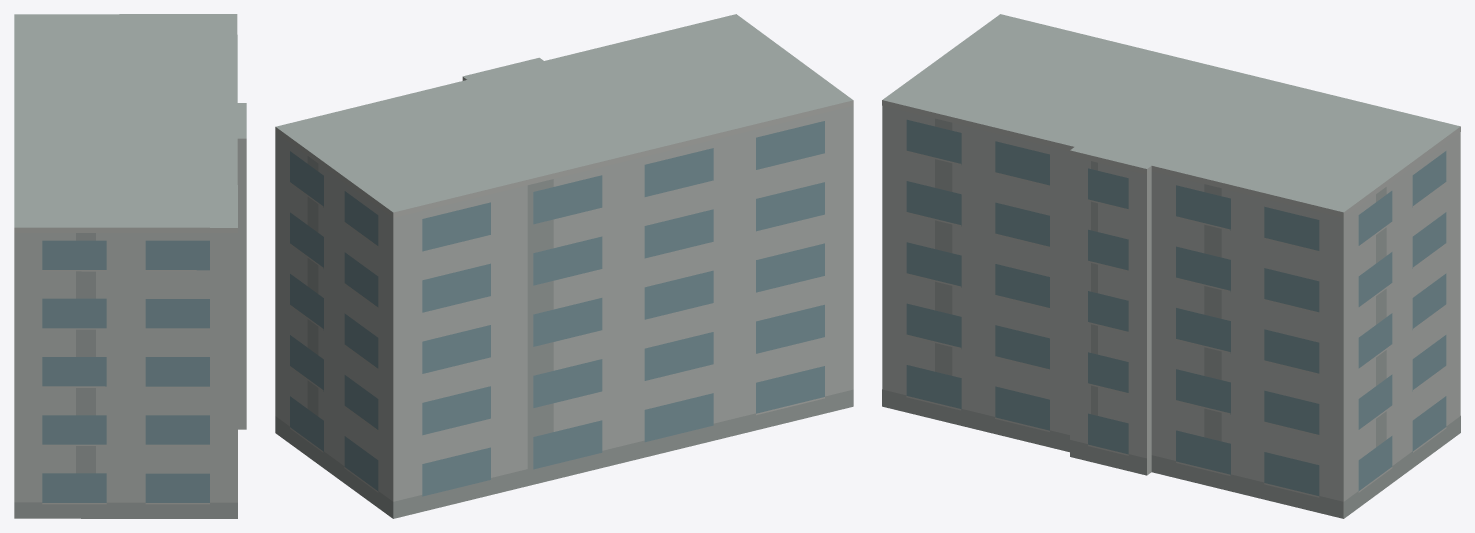
The model's file is survey-upis-32554193.glb.
3 renders of one model, left to right at view 1: azimuth 30°, elevation 25°; view 2: azimuth 150°, elevation 25°; view 3: azimuth 270°, elevation 25°, orthographic. The views are drawn at different scales.
Parts seen in each view (by area): view 1: survey-upis-32554193.tmp; view 2: survey-upis-32554193.tmp; view 3: survey-upis-32554193.tmp.
Part boxes in pixels (x1,y1,x2,y2): survey-upis-32554193.tmp: (14,14,246,518); survey-upis-32554193.tmp: (275,14,853,518); survey-upis-32554193.tmp: (882,14,1460,518).
Bounding box in the file's own units: 18.68 × 13.45 × 23.02.
